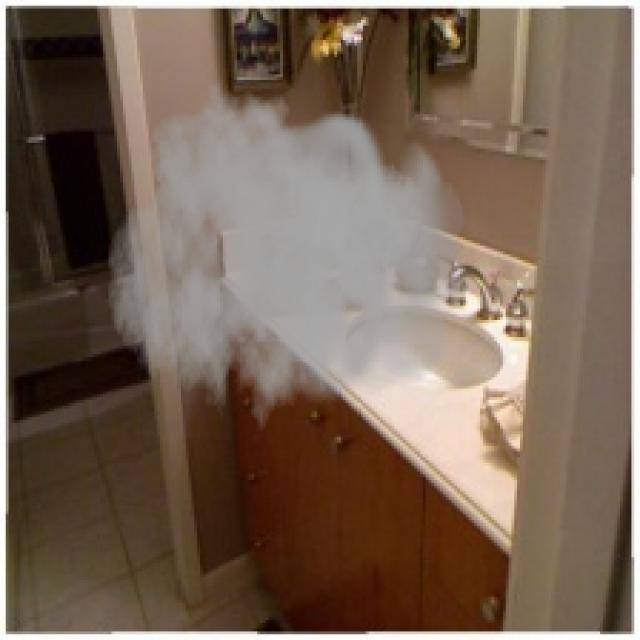smoke: (106, 80, 468, 449)
